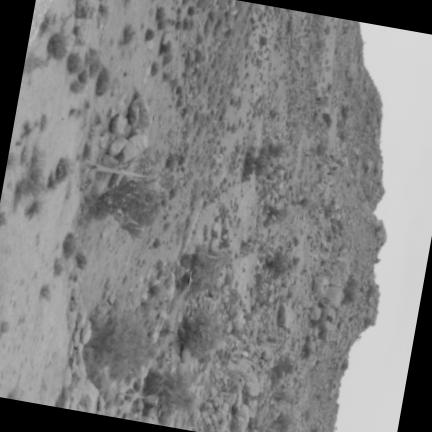Shahed: (187, 271, 191, 292)
